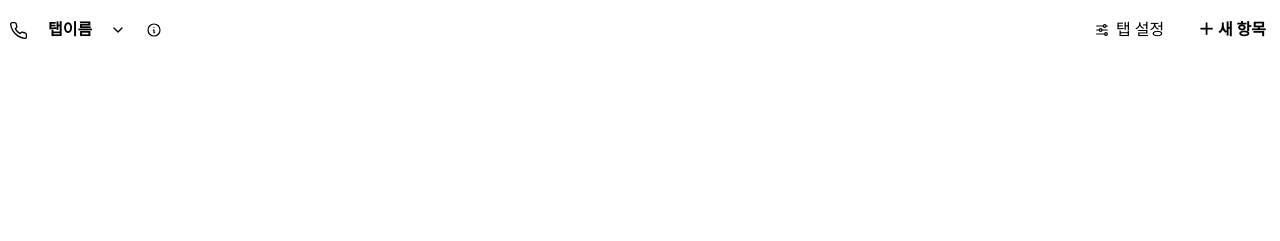
제목 ▾ 메뉴 › Esc 로 닫고 초점을 ▾ 단추로 돌려준다
Step 1. Click the button named "탭이름 탭 메뉴" → (118, 30), box [102,14,134,46]
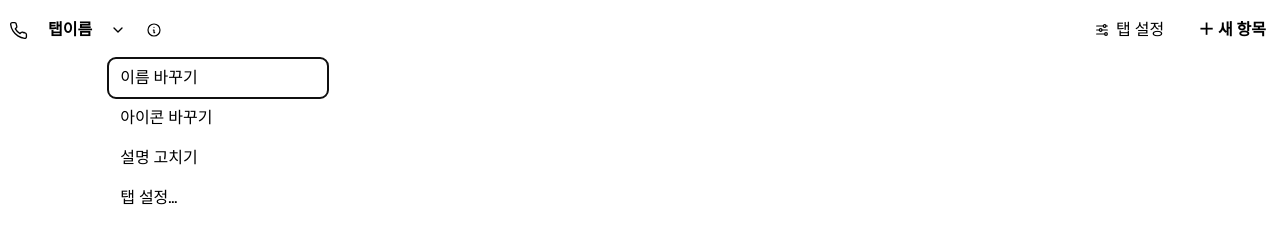
Expected: the text "이름 바꾸기" is shown, [120,67,198,88]
Step 2. Press Escape in the menu, box [102,52,334,224]
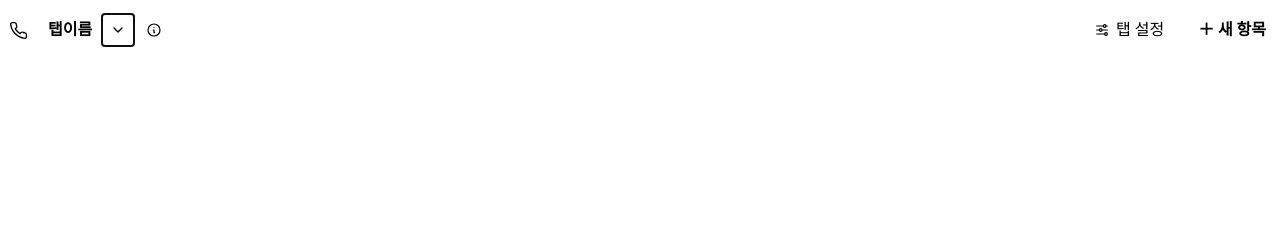
Expected: the menu is gone
